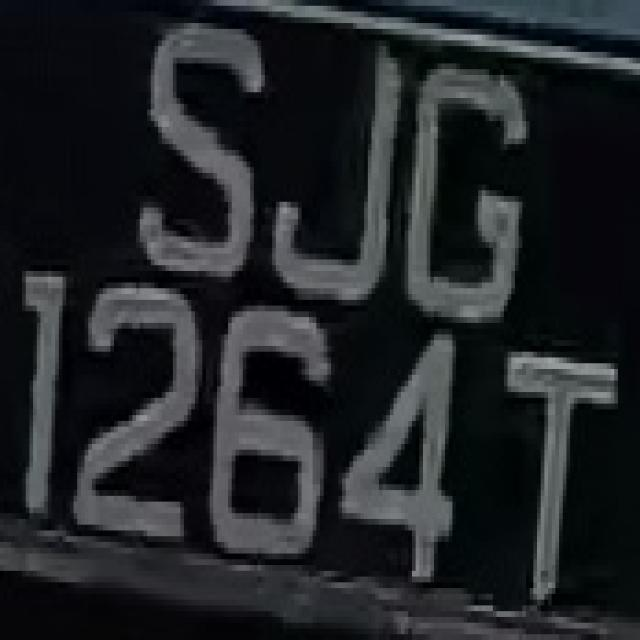1: (15, 219, 74, 542)
2: (74, 248, 206, 553)
4: (320, 294, 474, 600)
6: (213, 271, 331, 565)
G: (408, 34, 530, 323)
J: (257, 23, 401, 311)
S: (139, 0, 261, 288)
T: (482, 317, 625, 617)
